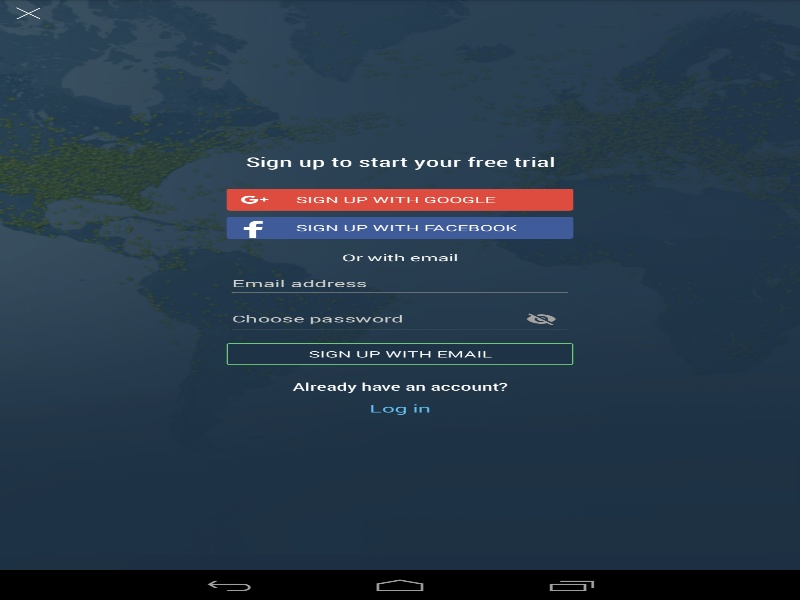Button: (33, 521, 385, 543), (414, 521, 766, 543), (226, 188, 573, 210), (226, 216, 573, 238), (226, 343, 573, 364), (509, 304, 573, 334)
Input: (226, 304, 573, 334), (226, 270, 573, 297)
